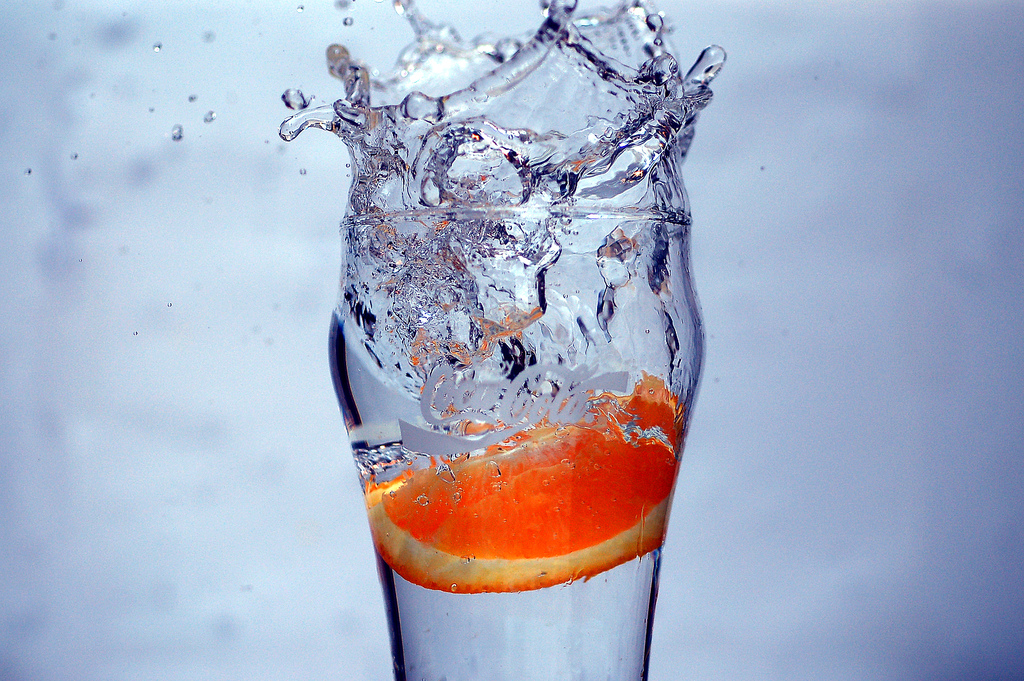glass of water: (310, 18, 724, 673)
